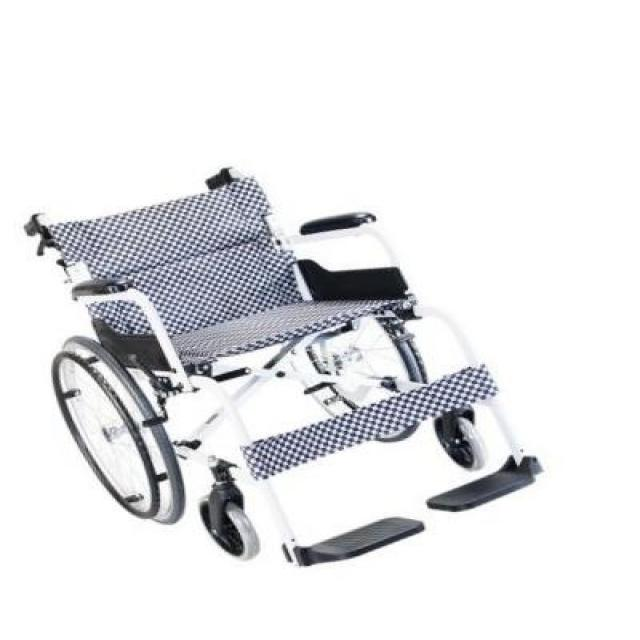wheelchair: (15, 157, 587, 580)
